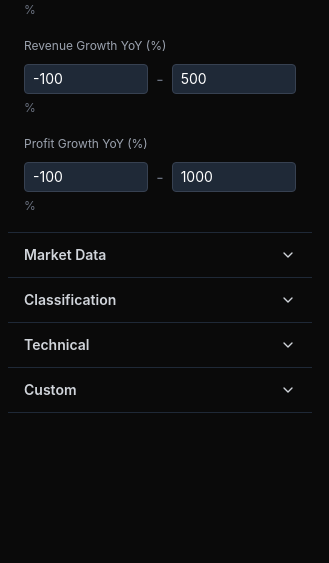
FilterPanel › renders single-select filters
The image size is (329, 563).
(page scrolled)
Click the button "Technical" at (57, 344), box 8,323 -> 312,367
(page scrolled)
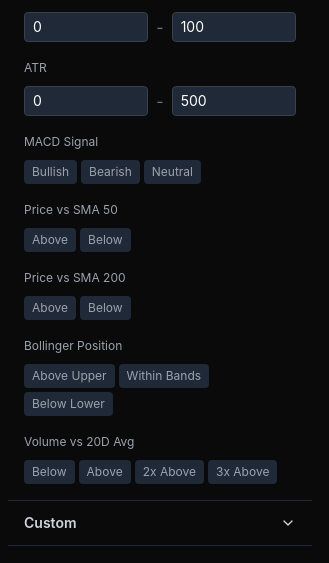
Check: the text "MACD Signal" is shown, box 24,134 -> 98,149
Check: the text "Price vs SMA 50" is shown, box 24,202 -> 118,217
Check: the text "Price vs SMA 200" is shown, box 24,270 -> 126,285
